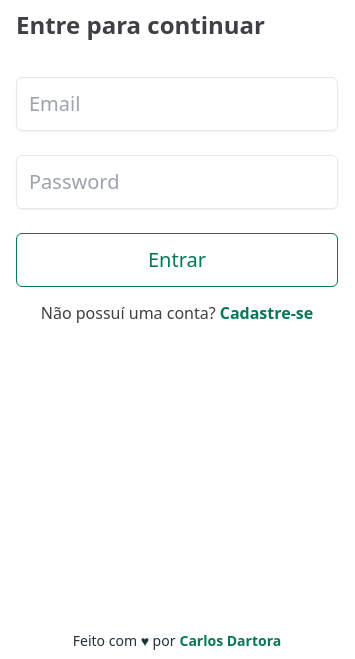
Scenario: Testa fluxo de Login › Testa validação de inputs › Botão apenas ativa quando inputs forem preenchidos
This screenshot has width=355, height=659.
Expected: the password field with placeholder "Password" is shown, 16,155 -> 338,209
Expected: the button "Entrar" is disabled, 16,233 -> 338,287
Step 1. Type "johndoe@gmail.com" into the field with placeholder "Email" → (177, 104), box 16,77 -> 338,131
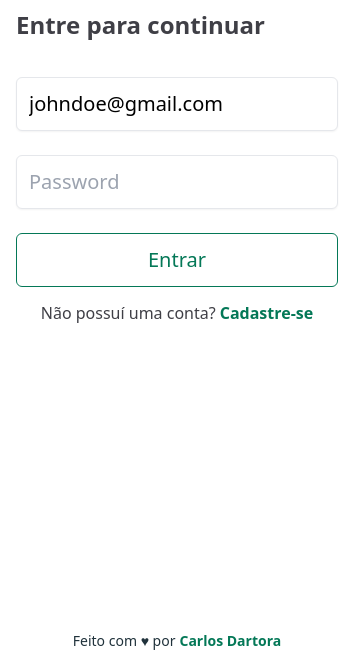
Expected: the button "Entrar" is disabled, 16,233 -> 338,287
Step 2. Type "1234567" into the password field with placeholder "Password" → (177, 182), box 16,155 -> 338,209
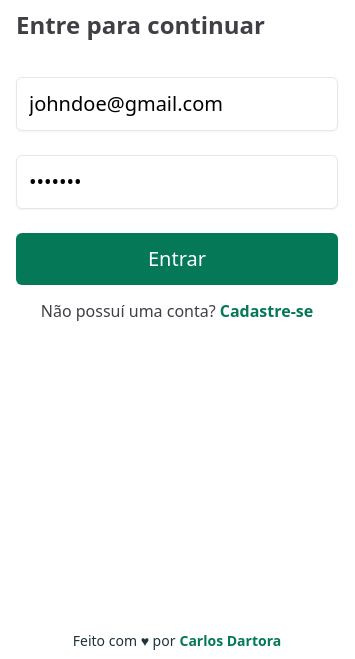
Expected: the button "Entrar" is enabled, 16,233 -> 338,285
